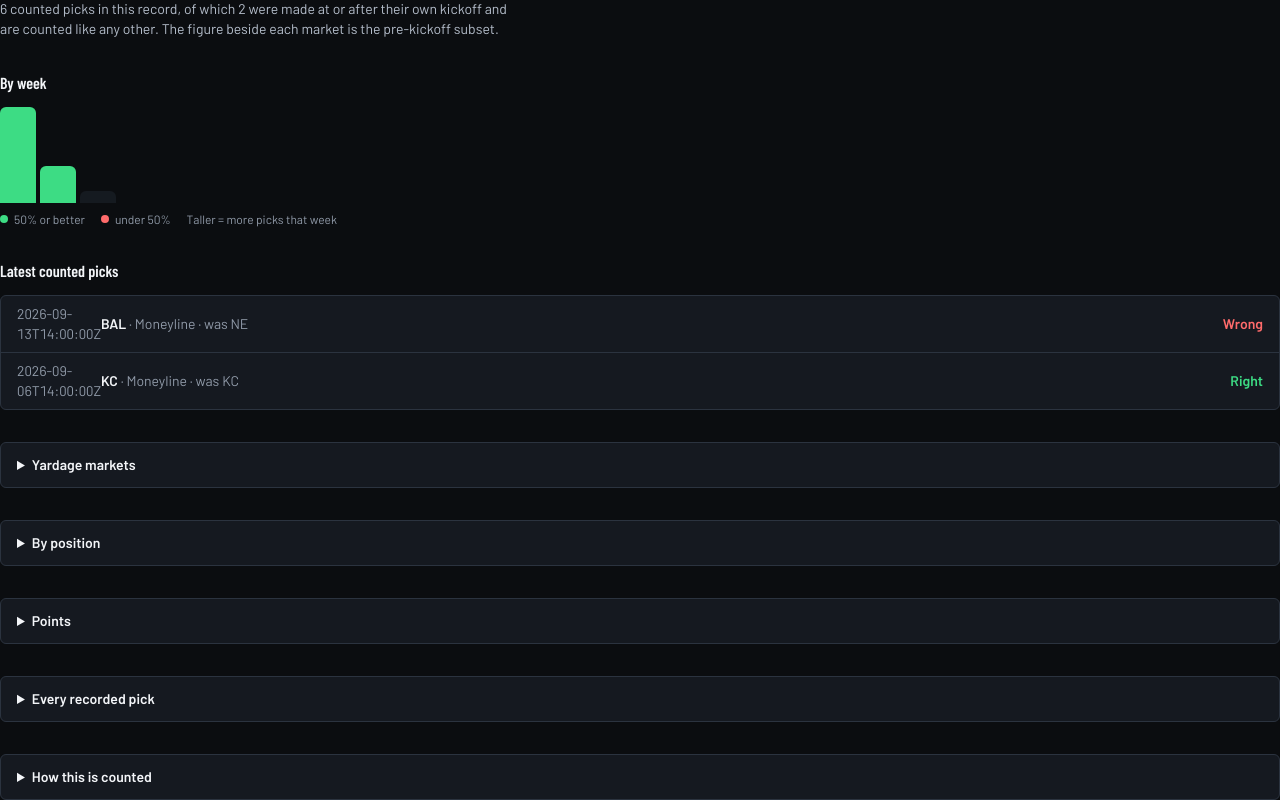
Test: restored prop blocks › by position renders the fixture's position errors
(page scrolled)
Click the heading "By position" at point(66, 542), box [32,534,100,551]
(page scrolled)
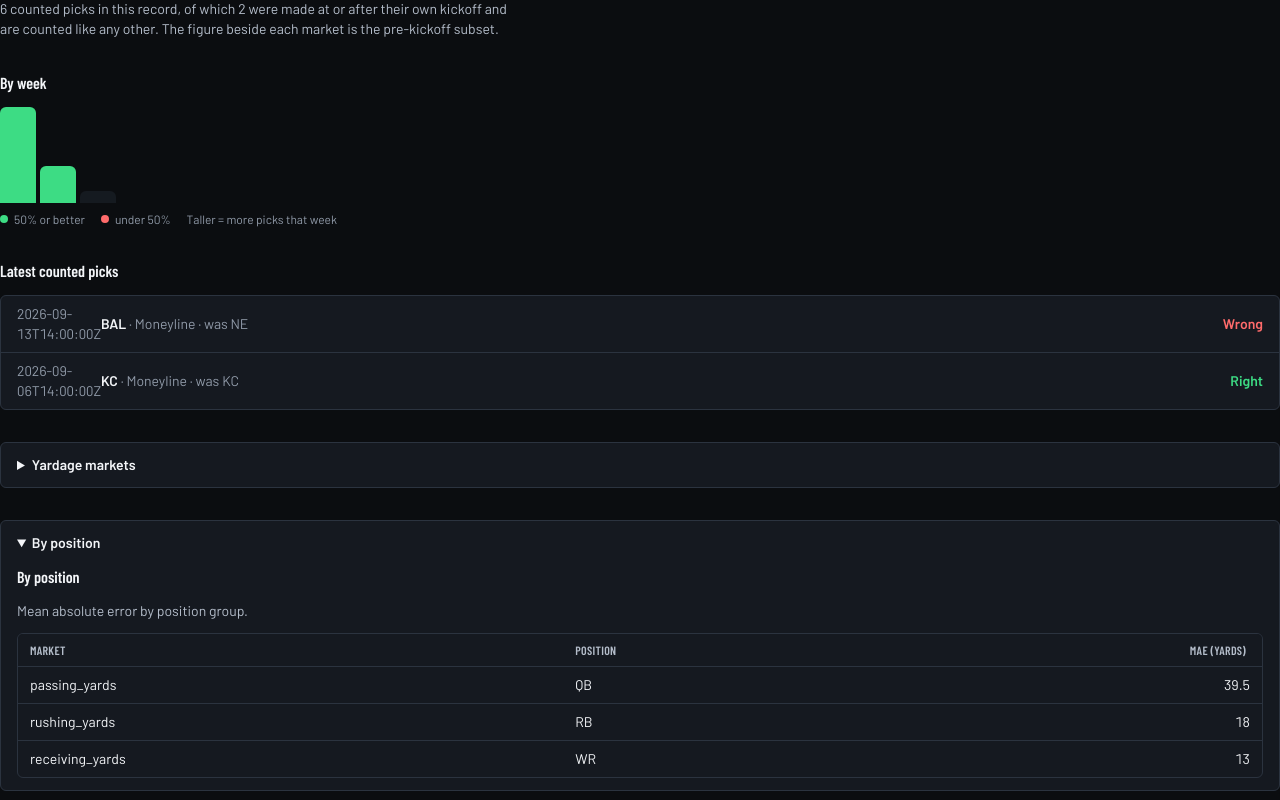
Now the text "QB" is shown, box [563,667,879,704]
Now the text "RB" is shown, box [563,704,879,740]
Now the text "WR" is shown, box [563,740,879,777]
